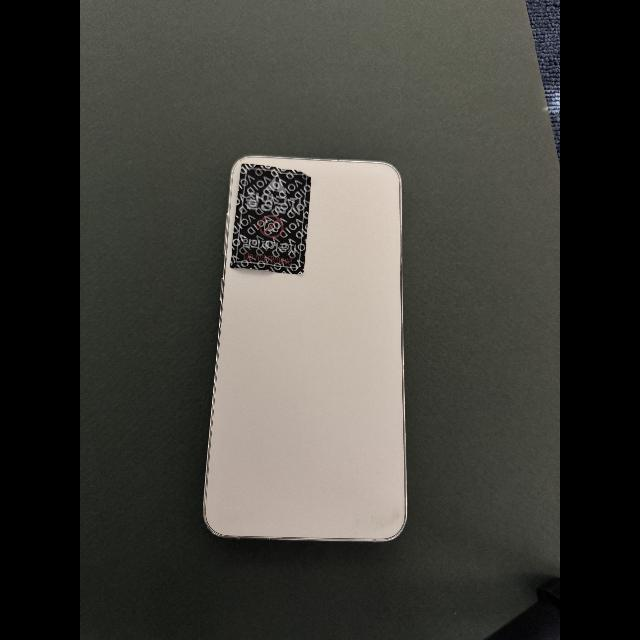phone: (203, 156, 407, 541)
sticker: (230, 164, 311, 276)
